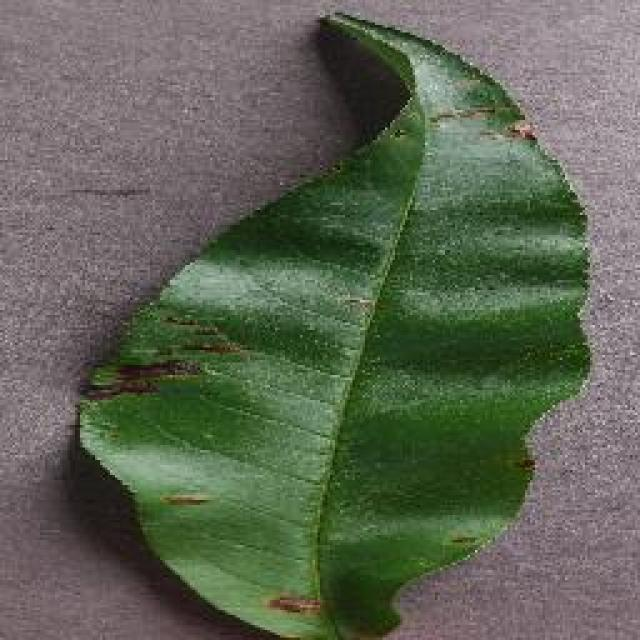Peach_Bacterial_Spot: (120, 238, 407, 534)
